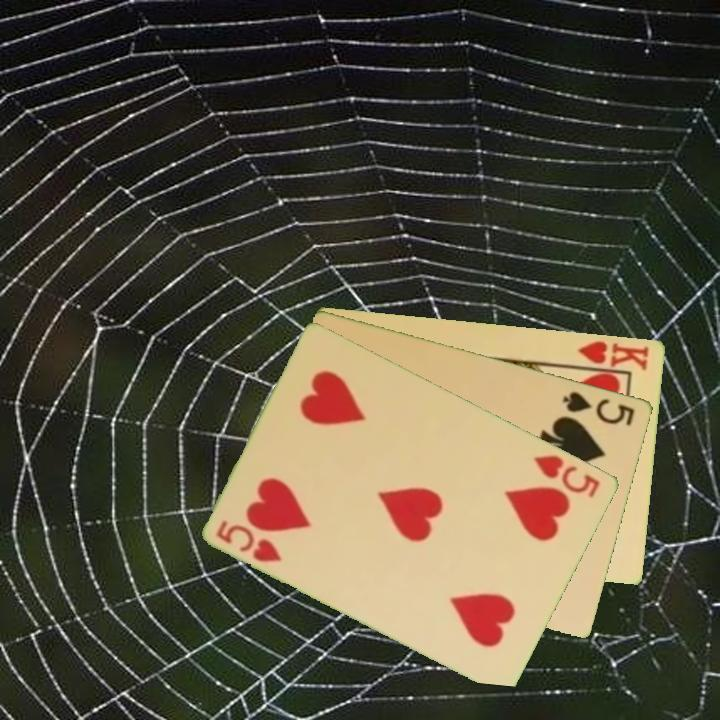5h: (530, 451, 603, 501), (213, 516, 285, 565)
5s: (559, 387, 638, 429)
Kh: (569, 337, 652, 374)
